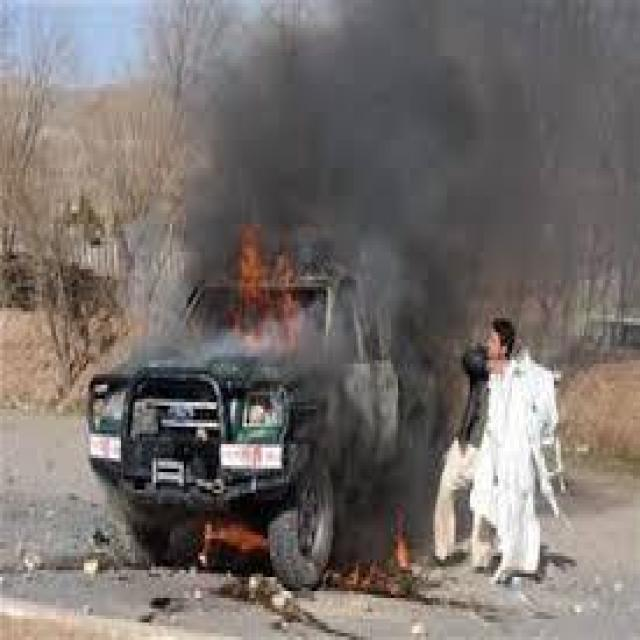fire: (228, 208, 308, 350), (193, 508, 280, 564), (384, 498, 415, 590)
smoke: (189, 29, 547, 259), (327, 428, 444, 559)
